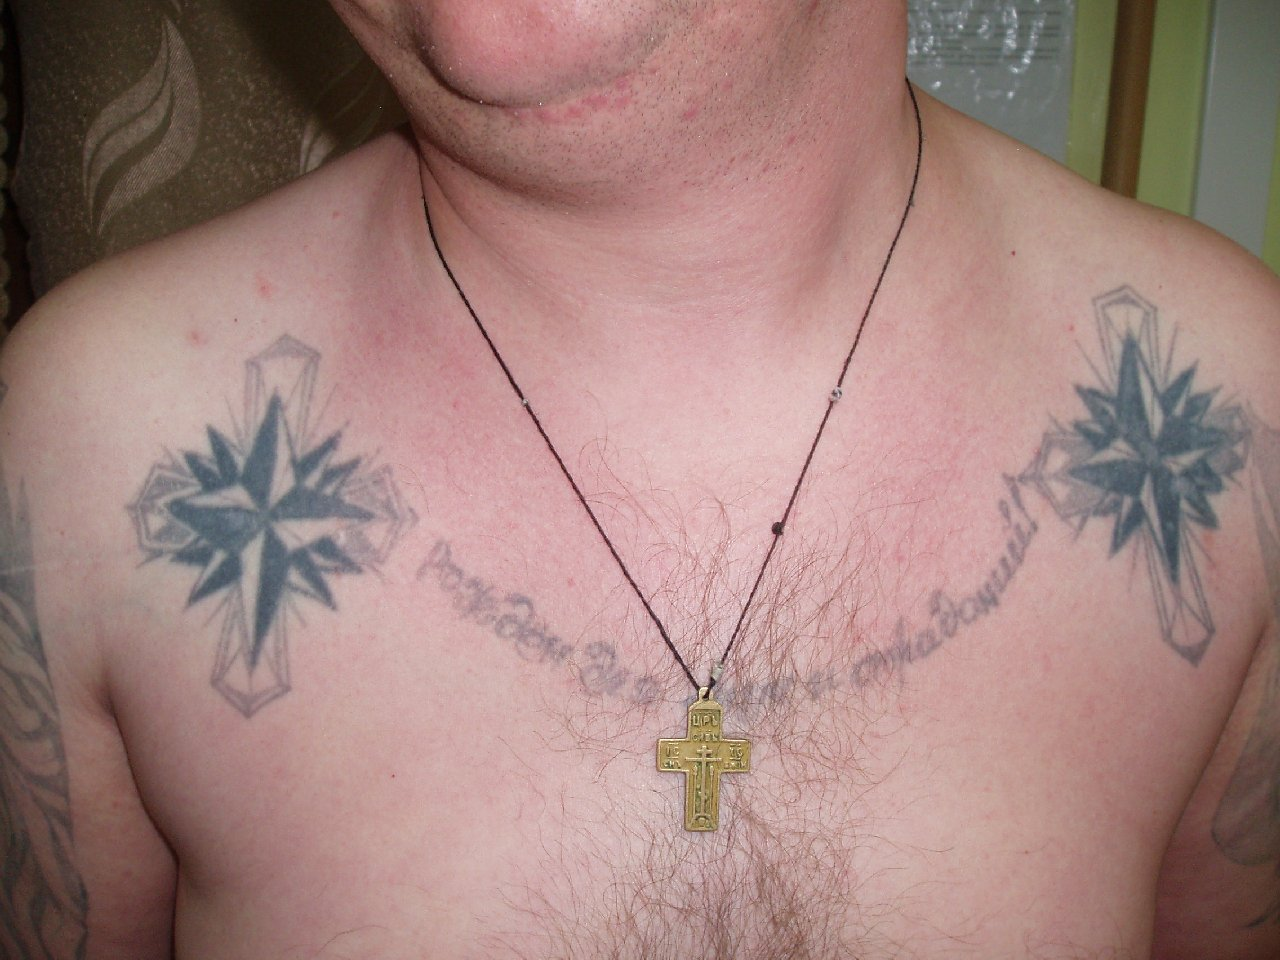tatu4_zvezda: (131, 340, 407, 716), (1031, 285, 1257, 666)
